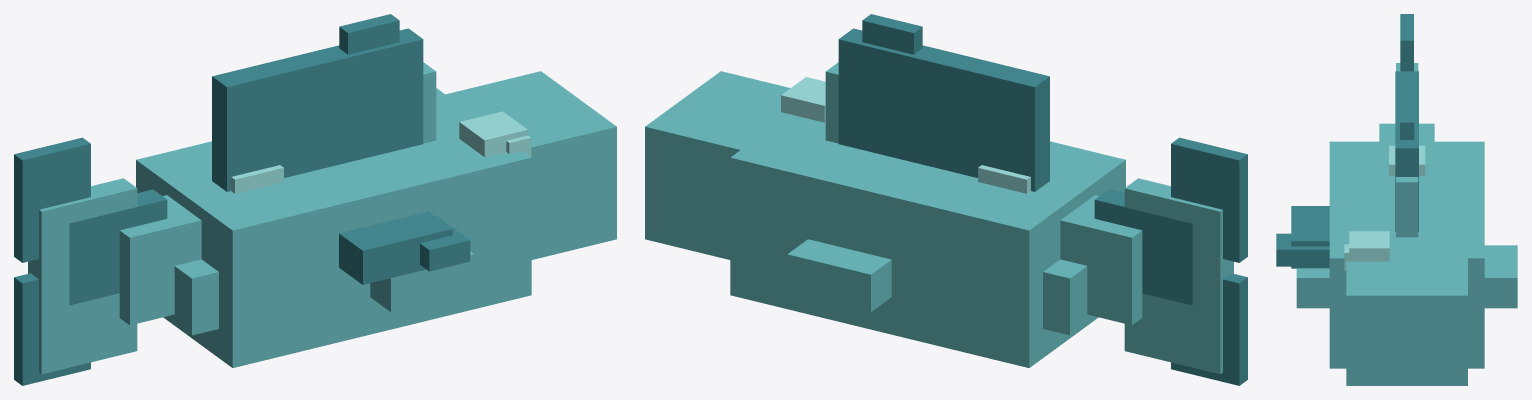
The model's file is fish_aurora_north.glb.
The picture shows the model from 3 angles, left to right: view 1: azimuth 30°, elevation 25°; view 2: azimuth 150°, elevation 25°; view 3: azimuth 270°, elevation 25°; orthographic projection. The views are drawn at different scales.
Visible parts, largest first — view 1: FishArt_body, FishArt_dorsal, FishArt_tail, FishArt_pectoral, FishArt_eye, FishArt_specialty; view 2: FishArt_body, FishArt_dorsal, FishArt_tail, FishArt_eye, FishArt_specialty; view 3: FishArt_body, FishArt_pectoral, FishArt_dorsal, FishArt_eye, FishArt_tail, FishArt_specialty.
Part boxes in pixels (x1,y1,x2,y2): FishArt_body: (28,62,616,374); FishArt_dorsal: (212,14,423,191); FishArt_tail: (14,137,167,385); FishArt_pectoral: (339,211,470,284); FishArt_eye: (459,111,531,156); FishArt_specialty: (231,165,283,193); FishArt_body: (645,62,1233,374); FishArt_dorsal: (838,14,1049,191); FishArt_tail: (1094,137,1247,385); FishArt_eye: (781,77,825,122); FishArt_specialty: (978,165,1030,193); FishArt_body: (1296,63,1517,385); FishArt_pectoral: (1276,206,1329,268); FishArt_dorsal: (1395,71,1418,231); FishArt_eye: (1344,231,1389,270); FishArt_tail: (1400,14,1413,71); FishArt_specialty: (1389,145,1425,175).
Bounding box in the file's own units: 0.3091 × 0.1442 × 0.1439.
